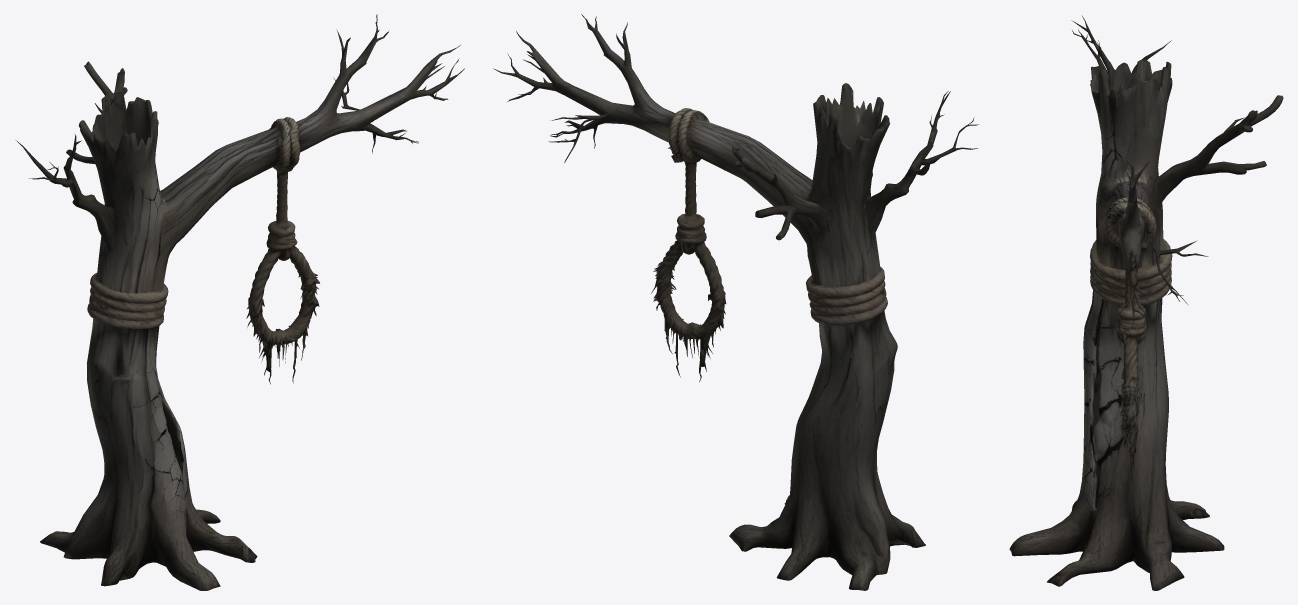
Rendered from Gallowstree.opt.glb.
3 views of the same model, side by side, from view 1: azimuth 30°, elevation 25°; view 2: azimuth 150°, elevation 25°; view 3: azimuth 270°, elevation 25° (orthographic). The views are drawn at different scales.
Visible parts, largest first — view 1: node_0; view 2: node_0; view 3: node_0.
Part boxes in pixels (left/top/right/bottom): node_0: left=16, top=14, right=464, bottom=590; node_0: left=493, top=14, right=978, bottom=590; node_0: left=1009, top=16, right=1283, bottom=590.
Bounding box in the file's own units: 0.9466 × 0.9316 × 0.4621.
Materials: 1 (1 with a texture image).
